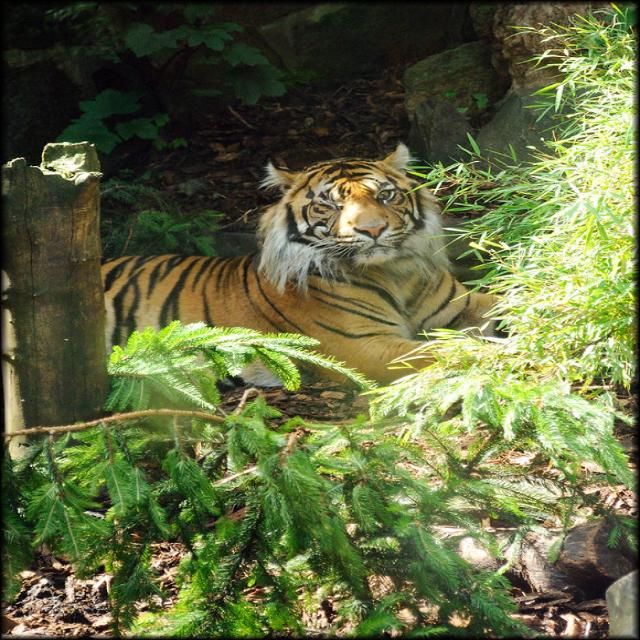Tiger: (101, 154, 492, 380)
